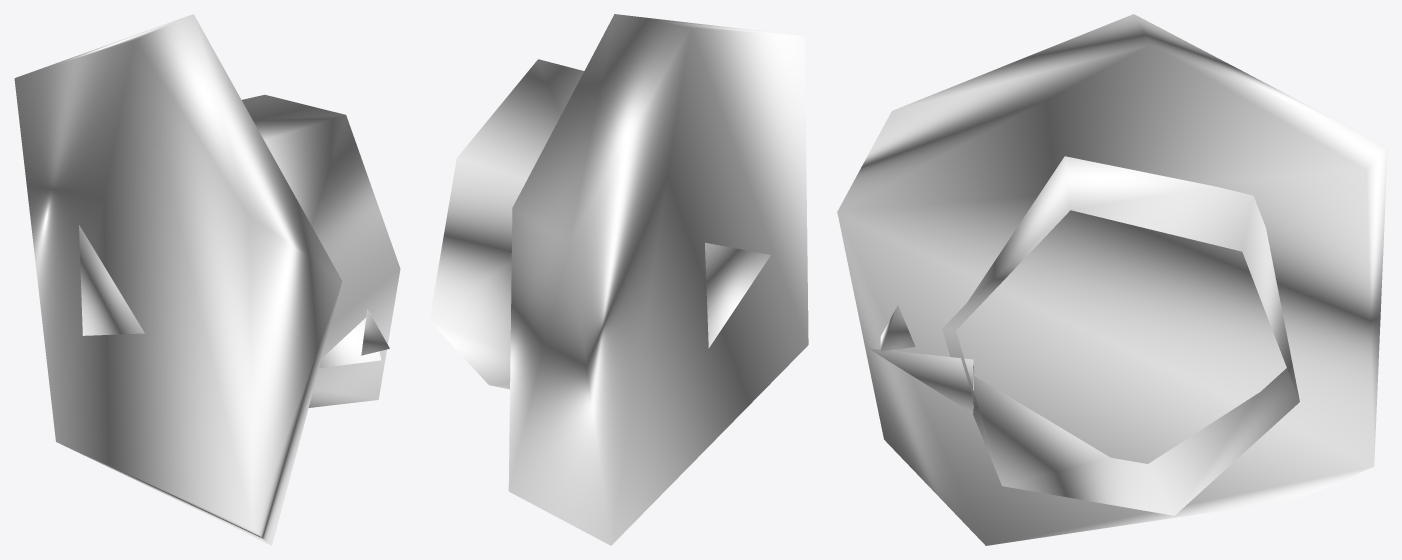
The picture shows the model from 3 angles, left to right: view 1: azimuth 30°, elevation 25°; view 2: azimuth 150°, elevation 25°; view 3: azimuth 270°, elevation 25°; orthographic projection. The views are drawn at different scales.
Bounding box in the file's own units: 0.1579 × 0.3303 × 0.3288.
Materials: 1 (1 with a texture image).
